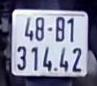1: (67, 16, 75, 44), (31, 45, 38, 71)
2: (71, 46, 82, 72)
3: (16, 45, 27, 70)
4: (57, 46, 69, 73), (42, 45, 52, 72), (24, 17, 34, 41)
8: (35, 16, 45, 43)
B: (55, 16, 66, 42)
